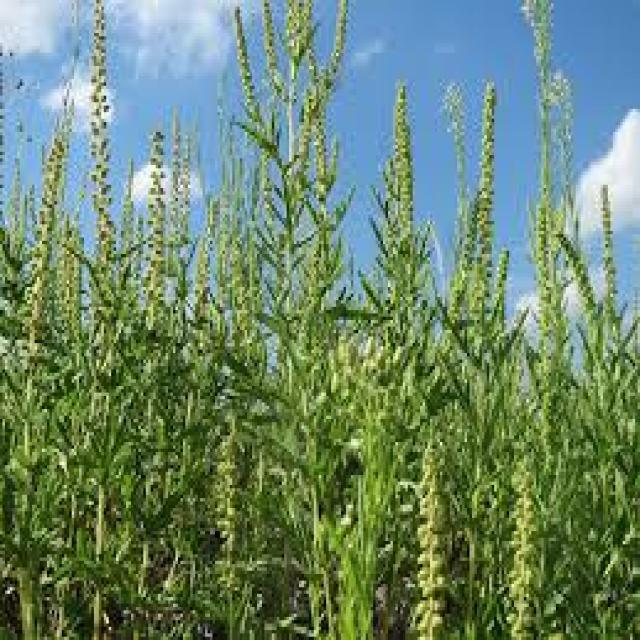wet: (516, 8, 626, 629)
